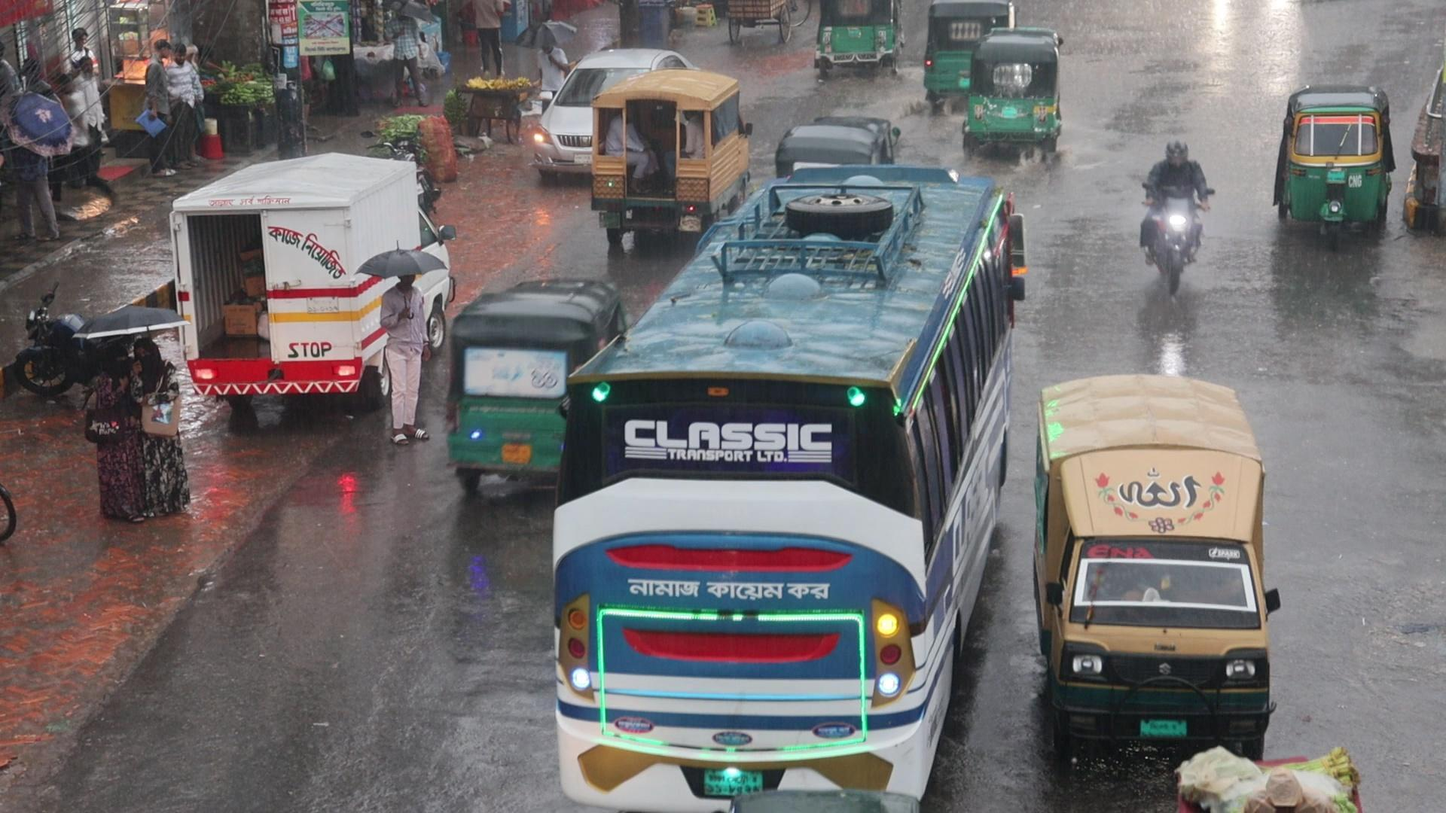Bike: (1135, 137, 1217, 302)
Bus: (546, 158, 1030, 812)
Truck: (1030, 371, 1285, 763), (588, 66, 754, 223)
